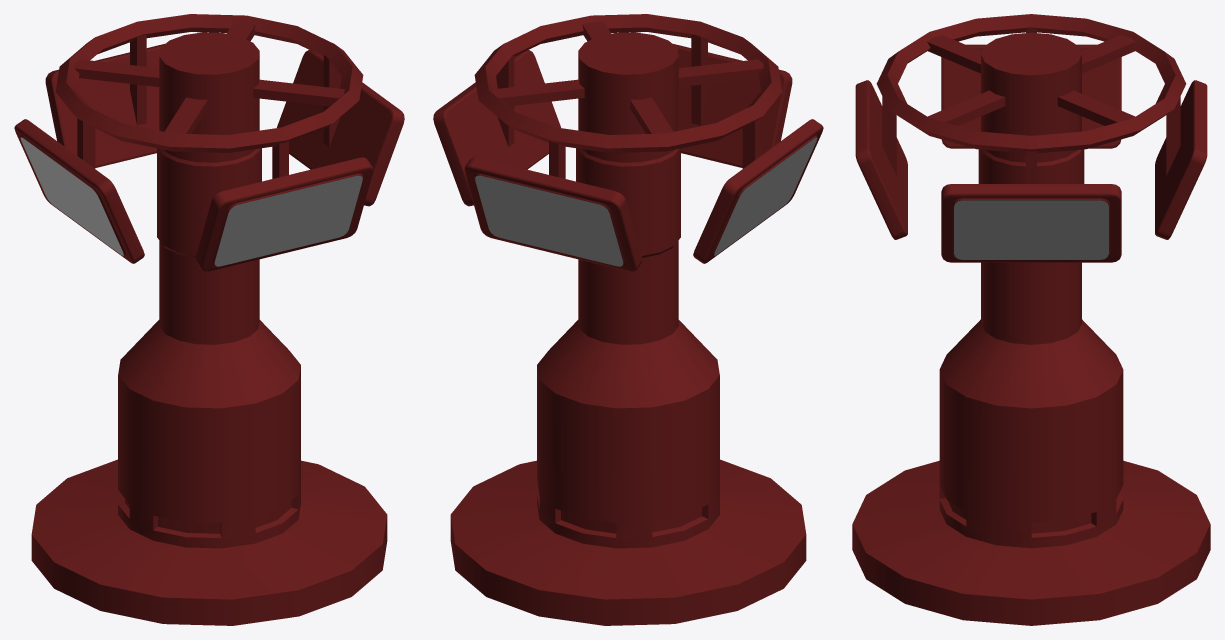
File: Pilar.fbx
3 renders of one model, left to right at view 1: azimuth 30°, elevation 25°; view 2: azimuth 150°, elevation 25°; view 3: azimuth 270°, elevation 25°, orthographic.
Visible parts, largest first — view 1: Pilar1; view 2: Pilar1; view 3: Pilar1.
Boxes of the visible parts, x1,y1,x2,y2 form: Pilar1: (14,14,404,625); Pilar1: (433,14,823,625); Pilar1: (852,14,1210,625).
Bounding box in the file's own units: 53.83 × 82.32 × 53.83.
